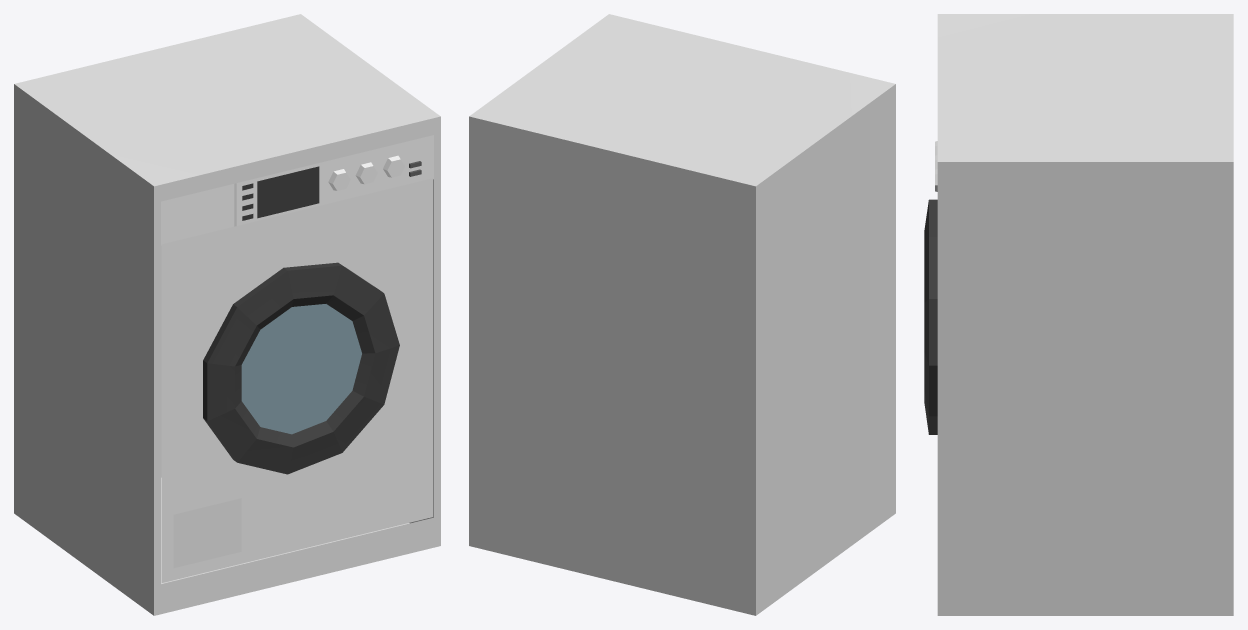
File: bathroom_item_011.glb
3 renders of one model, left to right at view 1: azimuth 30°, elevation 25°; view 2: azimuth 150°, elevation 25°; view 3: azimuth 270°, elevation 25°, orthographic. The views are drawn at different scales.
Visible parts, largest first — view 1: bathroom_item_011; view 2: bathroom_item_011; view 3: bathroom_item_011.
Boxes of the visible parts, x1=… form: bathroom_item_011: x1=14, y1=14, x2=440, y2=615; bathroom_item_011: x1=469, y1=14, x2=895, y2=615; bathroom_item_011: x1=924, y1=14, x2=1233, y2=615.
Bounding box in the file's own units: 0.5985 × 0.8567 × 0.5289.
1 material, 1 textured.
